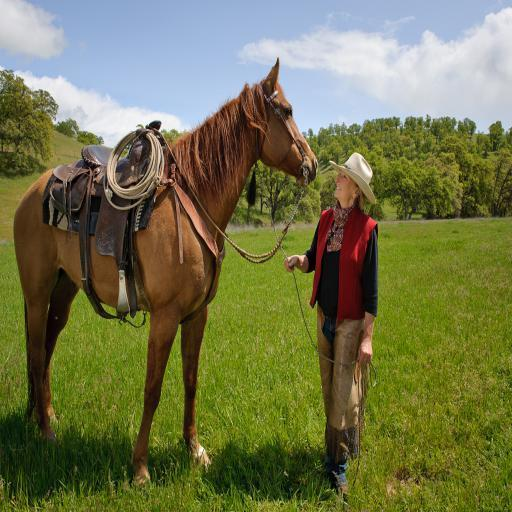horse: (12, 57, 320, 489)
